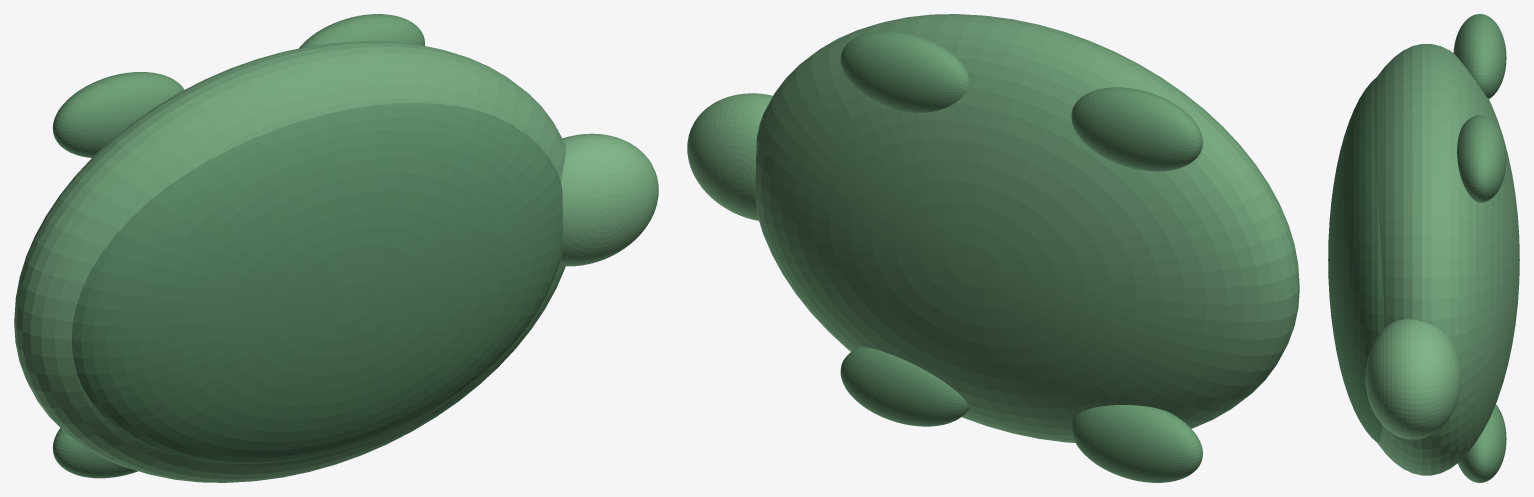
The model's file is tortuga.glb.
3 views of the same model, side by side, from view 1: azimuth 30°, elevation 25°; view 2: azimuth 150°, elevation 25°; view 3: azimuth 270°, elevation 25° (orthographic). The views are drawn at different scales.
Visible parts, largest first — view 1: part1, part0, part2, part3, part4, part5; view 2: part0, part3, part4, part5, part2, part6; view 3: part0, part1, part2, part4, part3, part6.
Boxes of the visible parts, x1,y1,x2,y2 form: part1: [71, 102, 562, 463]; part0: [14, 41, 565, 482]; part2: [561, 133, 658, 266]; part3: [52, 72, 184, 157]; part4: [299, 14, 424, 48]; part5: [52, 428, 137, 478]; part0: [755, 14, 1299, 442]; part3: [1071, 87, 1202, 171]; part4: [840, 31, 968, 112]; part5: [1071, 405, 1202, 482]; part2: [687, 93, 772, 220]; part6: [840, 347, 968, 426]; part0: [1373, 44, 1519, 475]; part1: [1328, 77, 1384, 442]; part2: [1365, 319, 1461, 439]; part4: [1457, 115, 1506, 202]; part3: [1453, 14, 1506, 98]; part6: [1458, 404, 1506, 482].
Size of the model in its own units: 2.38 by 1.5 by 0.72.
